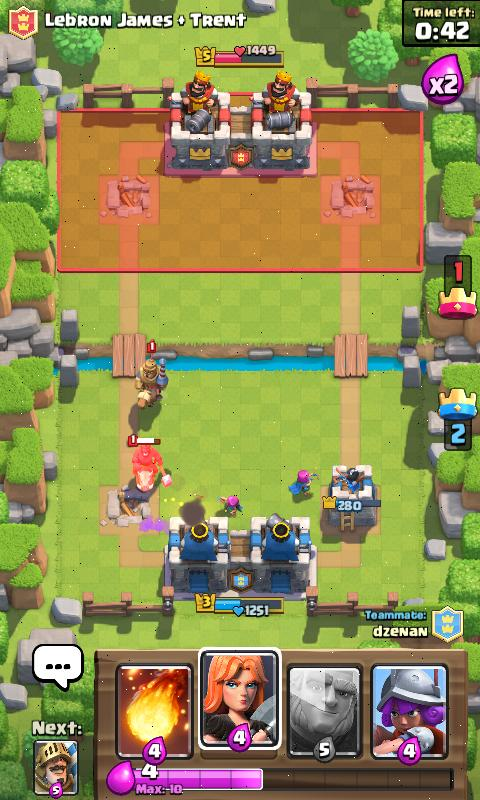EHogRider: (132, 443, 165, 491), (289, 470, 317, 494), (476, 133, 479, 163)
EKingTower: (248, 71, 311, 170), (167, 72, 229, 170)
EPrince: (136, 358, 167, 406)
OArcher: (218, 495, 241, 516)
OwnKingTower: (165, 519, 229, 593), (251, 514, 309, 594)
OwnPrincessTower: (329, 465, 379, 530)
TowerDown: (99, 175, 158, 223), (321, 175, 379, 223), (99, 491, 159, 536)
